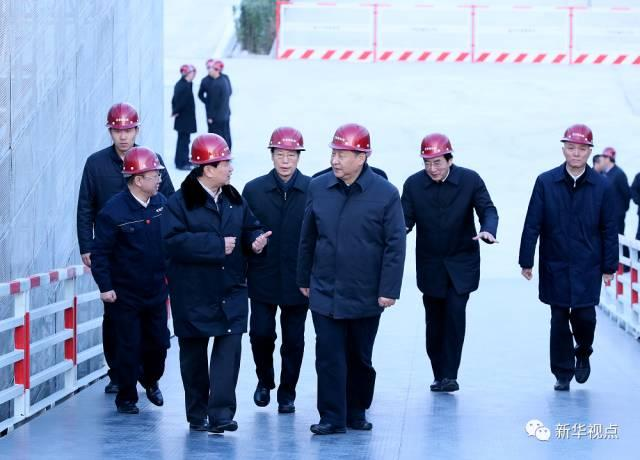helmet: (190, 134, 231, 166), (334, 124, 374, 153), (127, 148, 168, 175), (108, 104, 142, 133), (422, 134, 454, 163), (269, 128, 305, 152), (563, 124, 596, 149), (179, 63, 200, 79), (602, 146, 618, 160), (211, 58, 226, 70), (206, 59, 221, 71)
